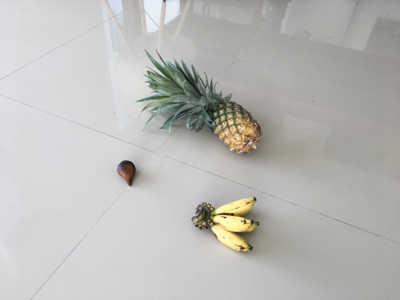banana: (193, 197, 260, 254)
pineapple: (135, 51, 262, 157)
snake fruit: (118, 160, 138, 188)
